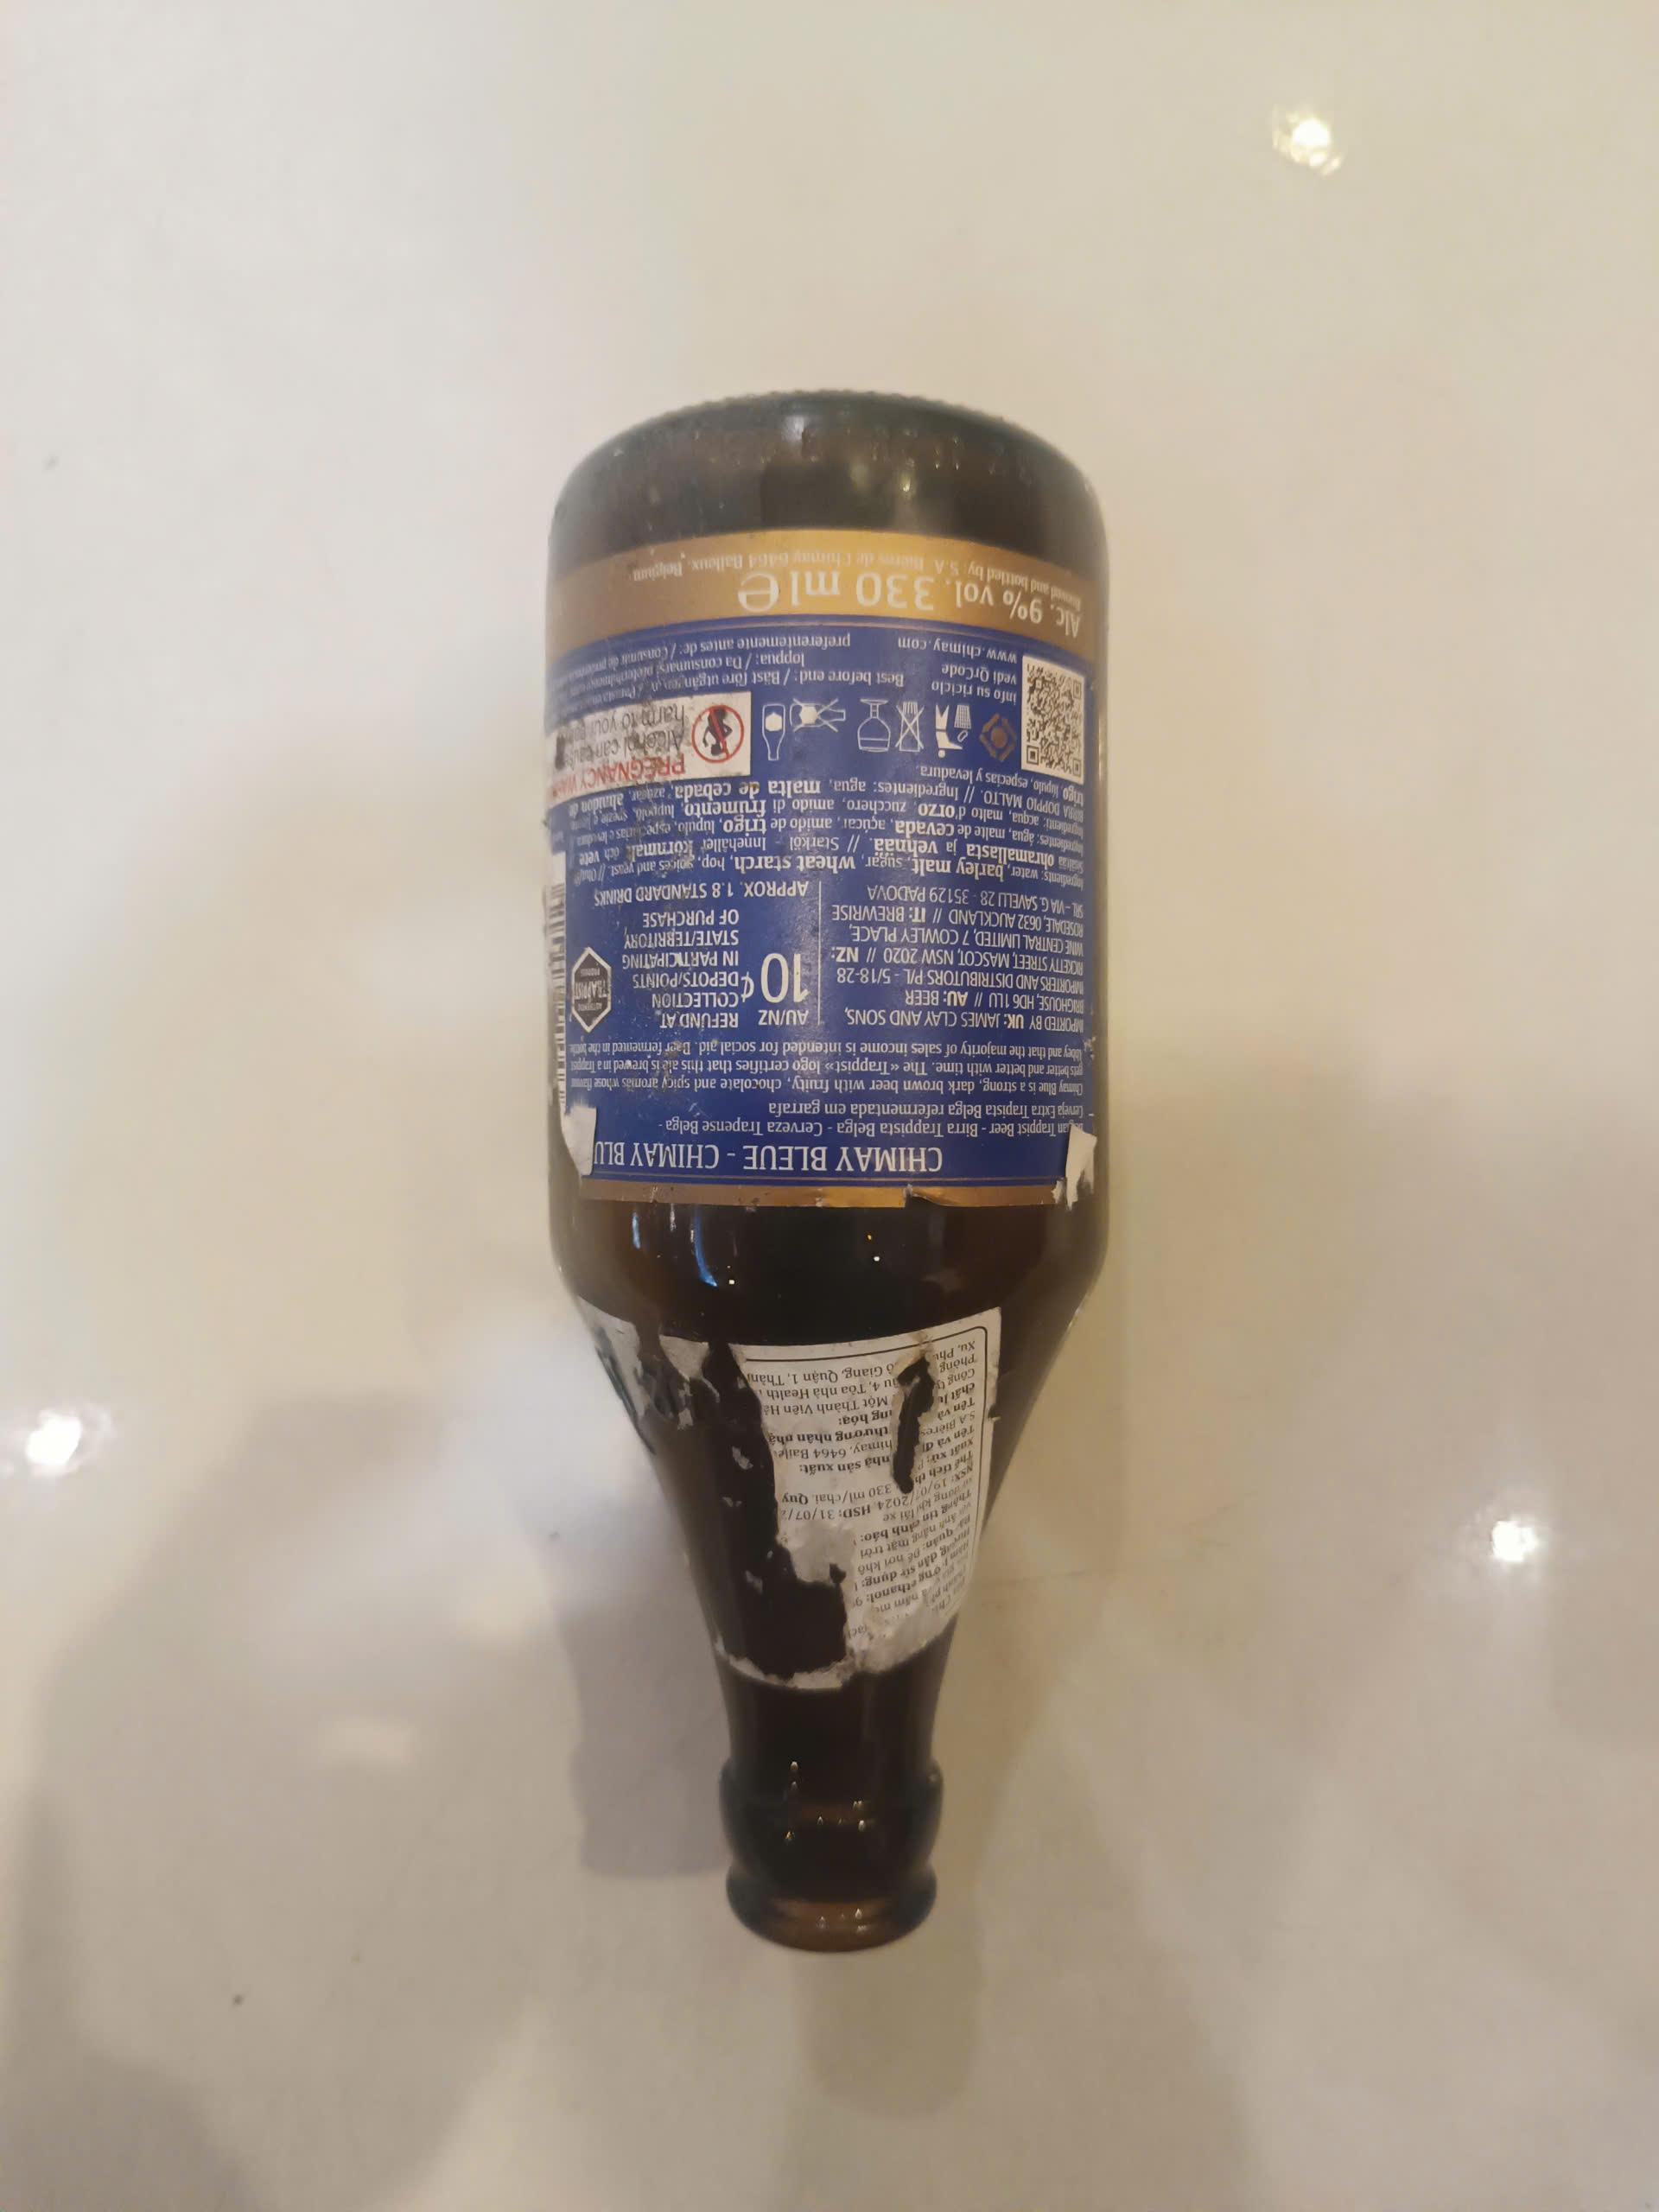Vo co: (535, 390, 1117, 1965)
